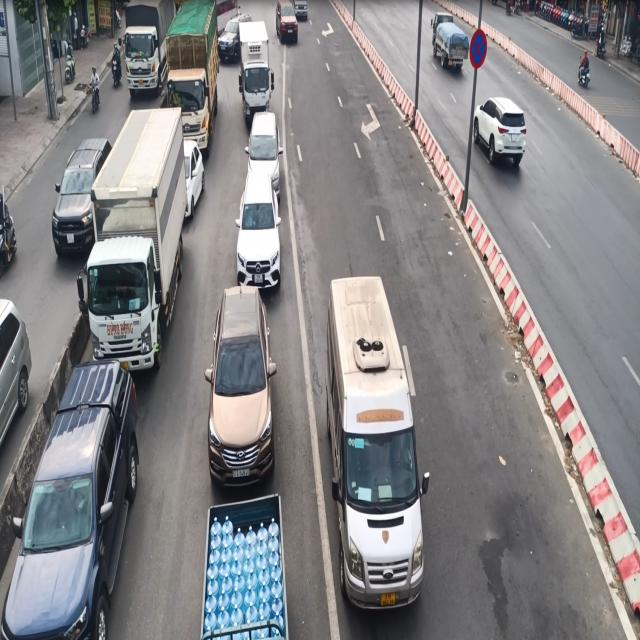car: (2, 354, 138, 640), (324, 282, 429, 623), (207, 275, 279, 497), (237, 171, 288, 291), (272, 0, 300, 51)
truck: (90, 114, 185, 371), (122, 0, 174, 94)
